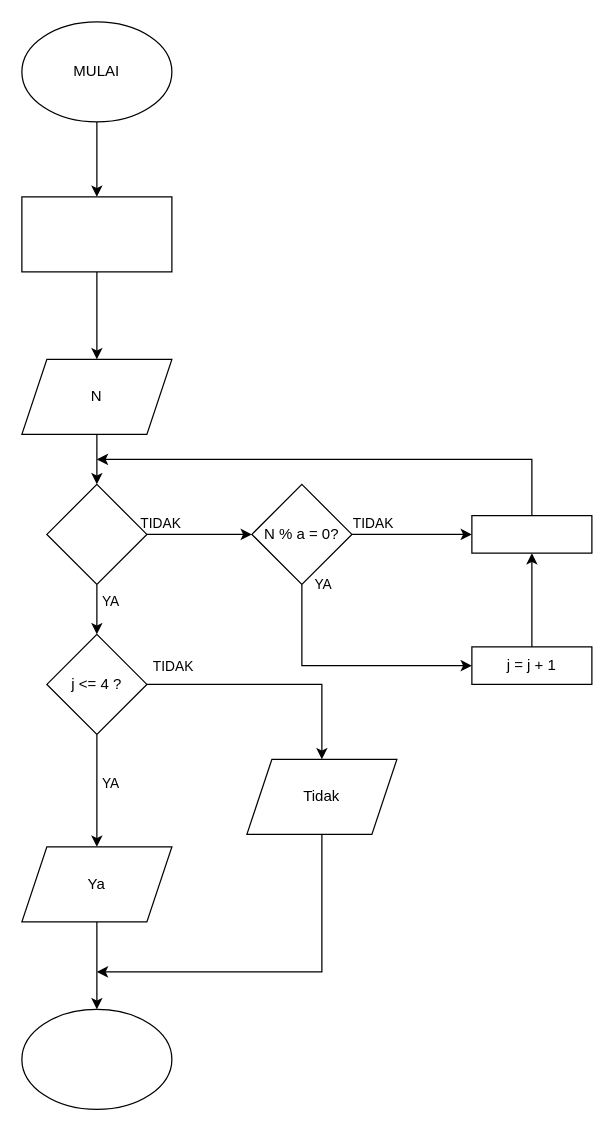
The diagram is 614 pixels wide and 1131 high, and some of its shapes have lost their labels. The shapes that lost their labels are listed below. From the top down, each one's box as (x1, y1, x2, y2) in pixels, then its label:
(21, 196, 172, 272): a = 1, j = 0, N
(46, 483, 147, 584): N < a ?
(471, 514, 592, 553): a = a + 1
(21, 1008, 172, 1109): SLESAI
